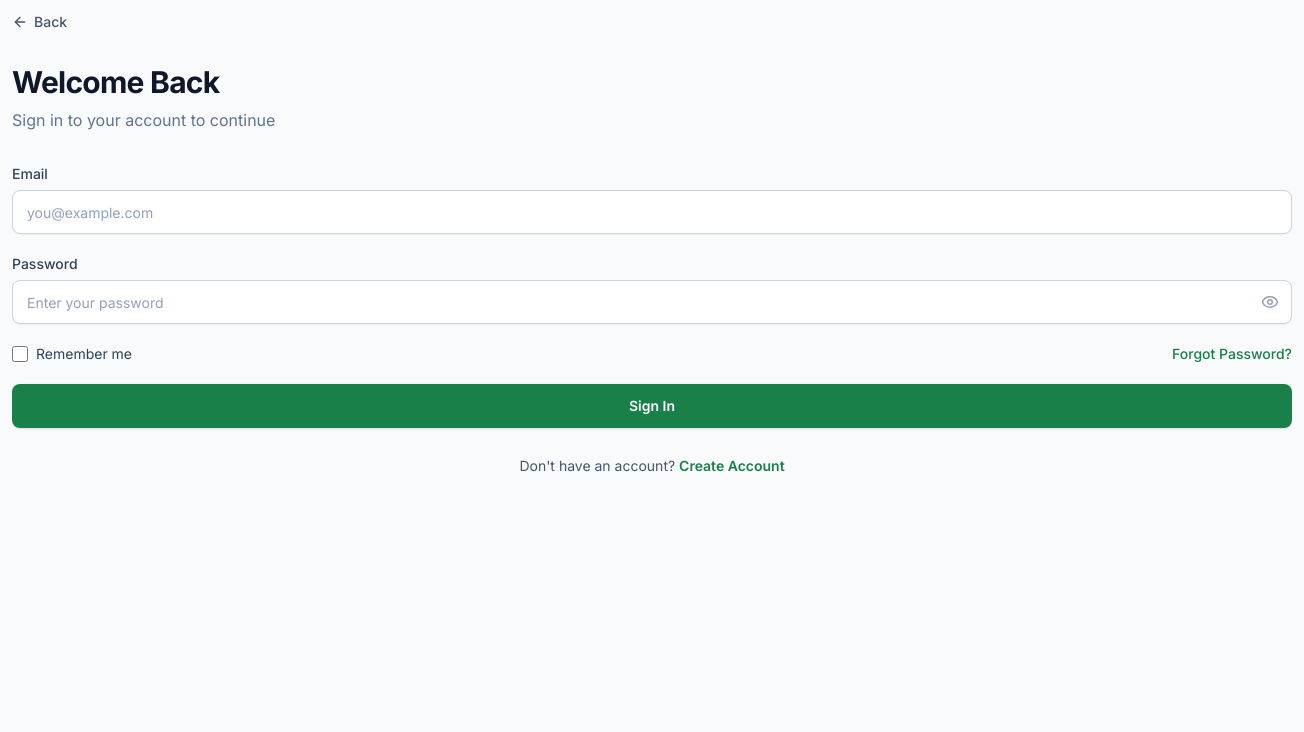
Test: LoginPage › shows the backend message for a merchant awaiting approval (403)
Type "merchant@example.com" into the field labelled "Email" at (652, 212), box left=12, top=190, right=1292, bottom=234
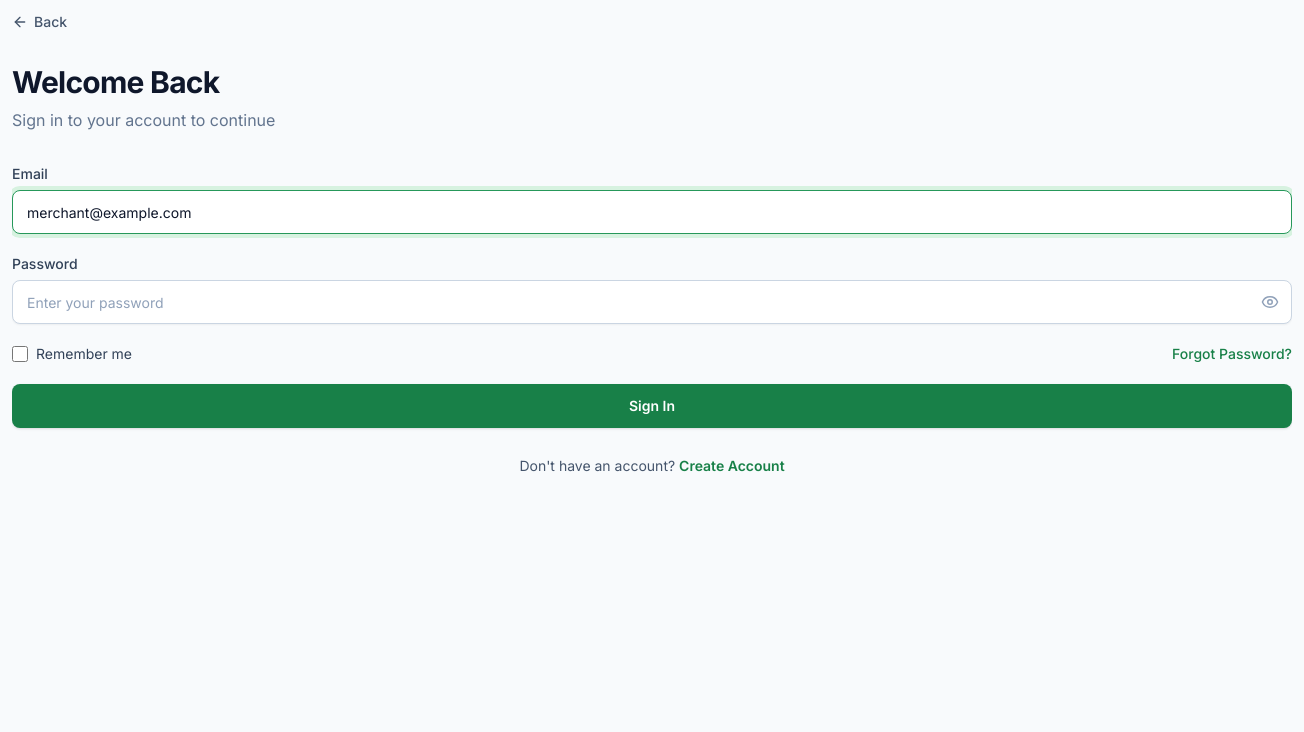
Type "secret123" into the password field labelled "Password" at (652, 302), box left=12, top=280, right=1292, bottom=324
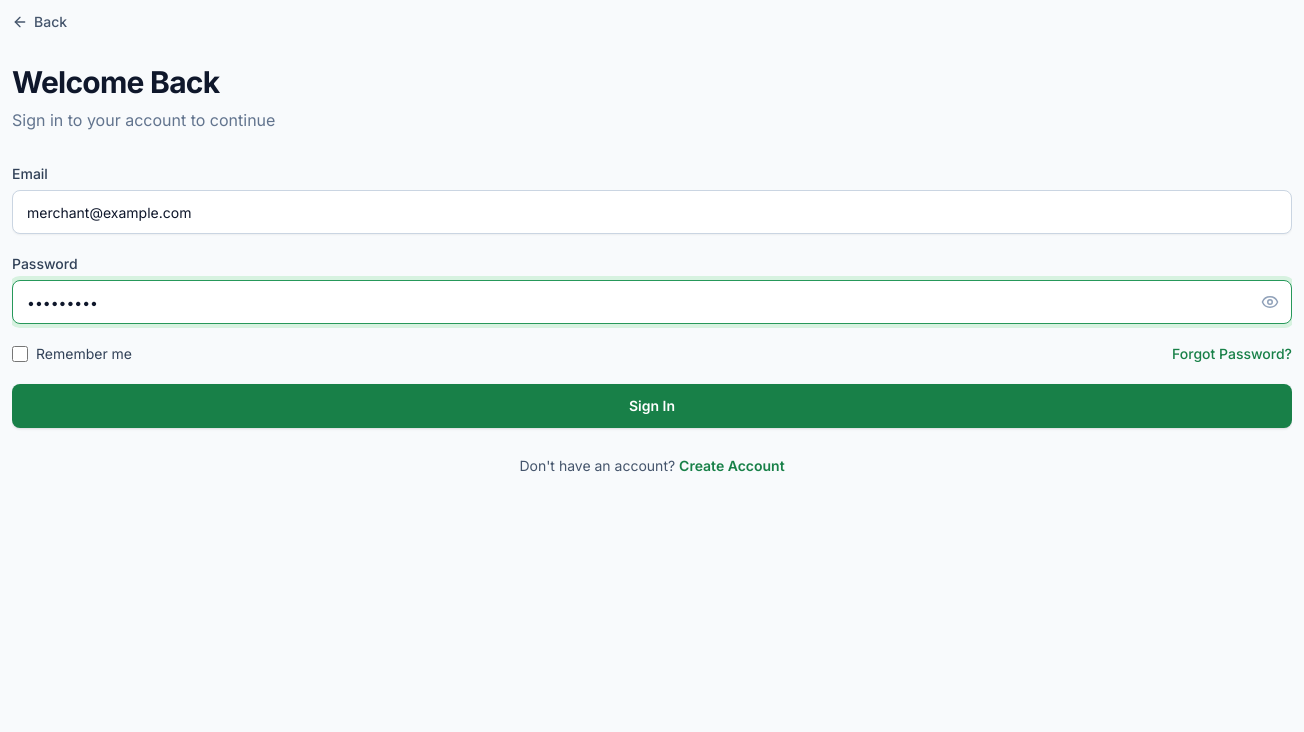
Click the button "Sign In" at (652, 406), box left=12, top=384, right=1292, bottom=428
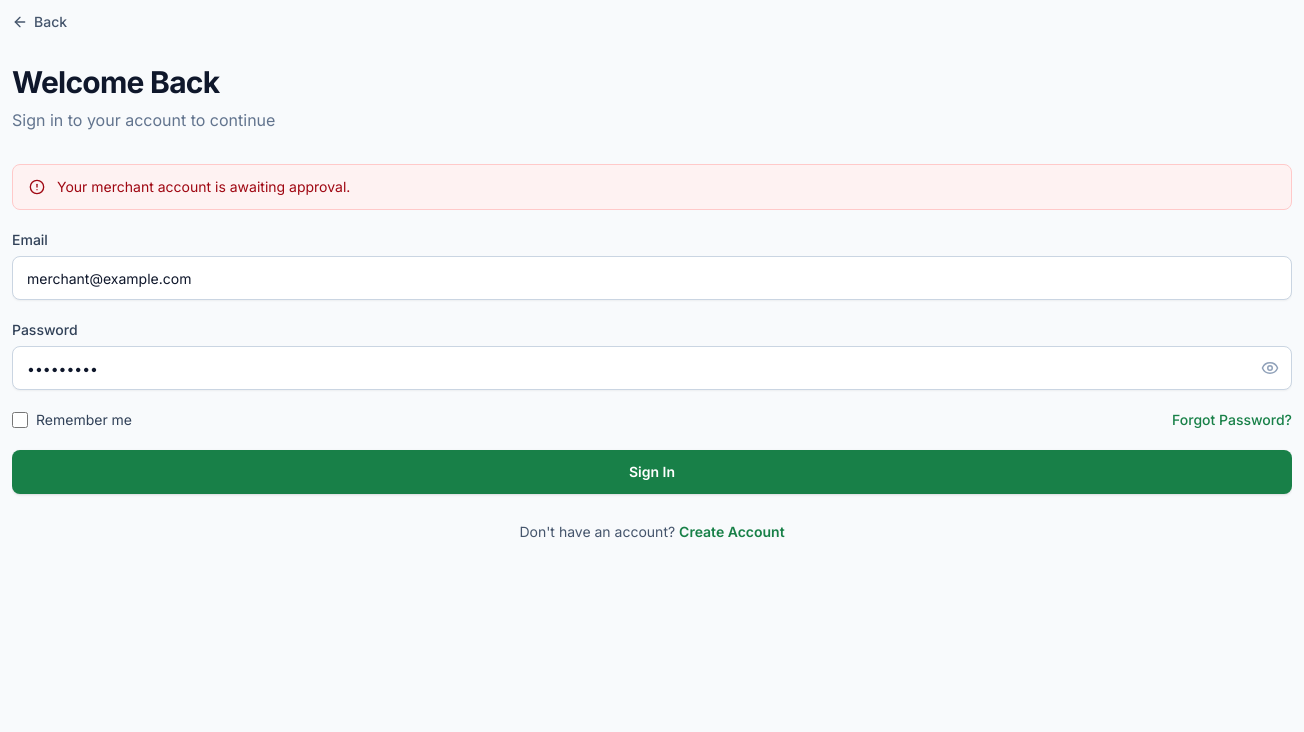
Check: the text "Your merchant account is awaiting approval." is shown, box left=57, top=177, right=350, bottom=197
